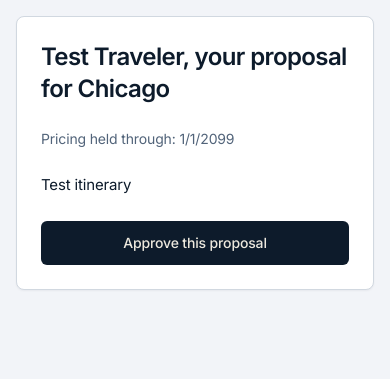
it: individual proposal approval › records the selected option once and reopens approved without another write
The width and height of the screenshot is (390, 379).
Later steps or results of the test are not shown.
Click the button at [195, 243], box [41,221,349,265]
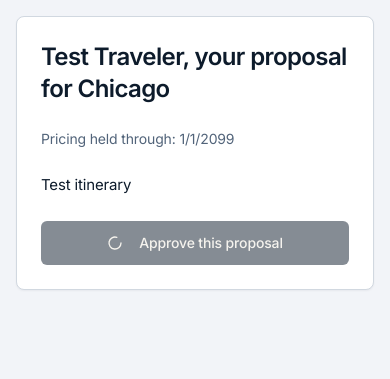
Click the button at [195, 243], box [41,221,349,265]
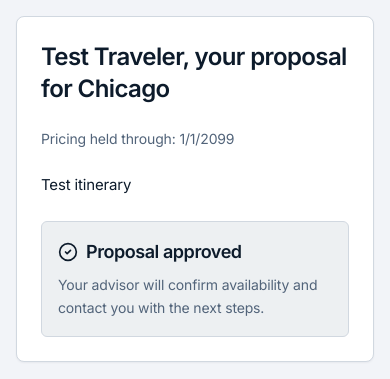
Expected: the message is shown, [41,221,349,337]
Expected: the button "Approve this proposal" is gone
